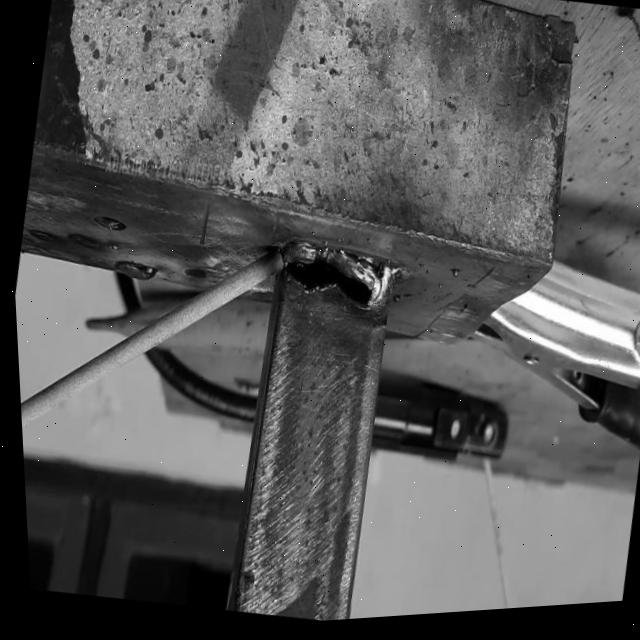Dry: (269, 235, 401, 327)
